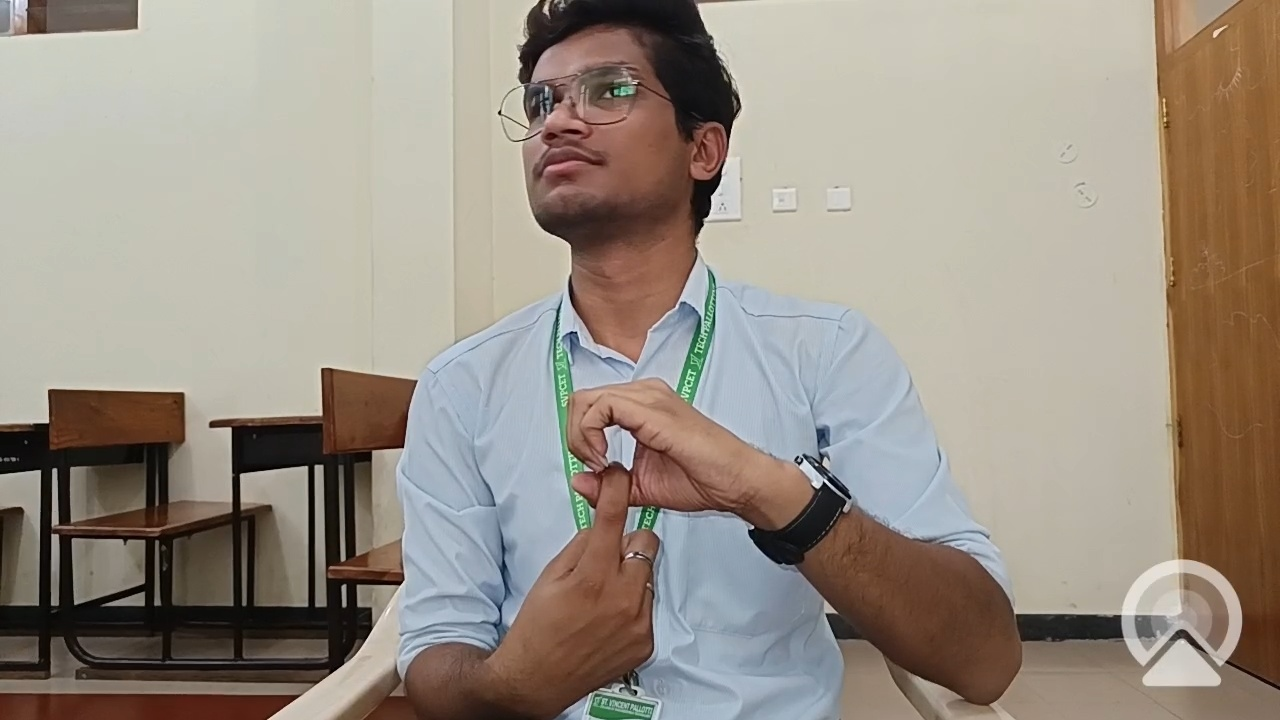Q: (492, 357, 876, 696)
